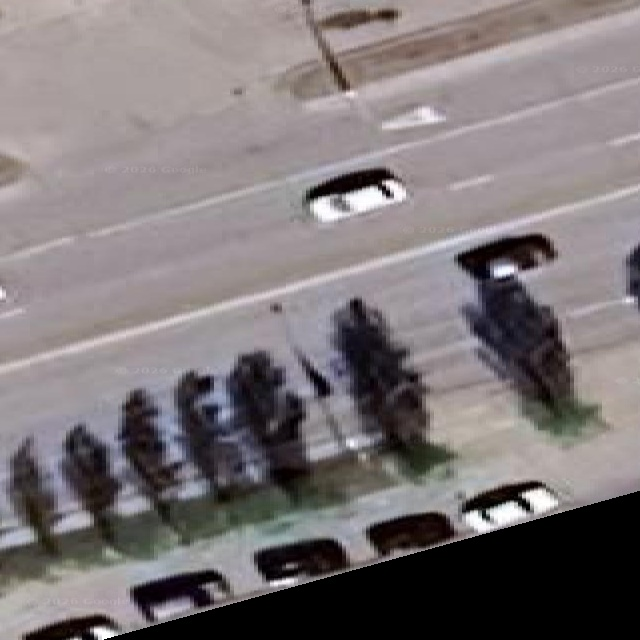car: (305, 168, 407, 222), (130, 570, 231, 622), (461, 481, 559, 532), (254, 539, 349, 587), (456, 234, 557, 279), (366, 512, 455, 555), (23, 615, 123, 639), (626, 245, 639, 302), (0, 283, 7, 303)
